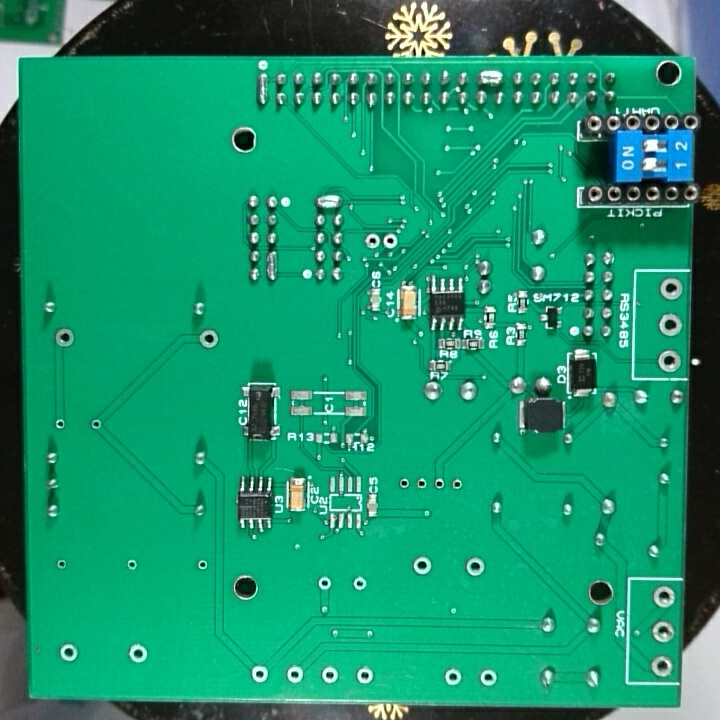F: (655, 347, 683, 374), (657, 312, 684, 340), (51, 326, 79, 352), (651, 583, 677, 611), (650, 619, 676, 646), (659, 277, 684, 304), (649, 654, 674, 680), (126, 641, 151, 666), (197, 327, 221, 352), (57, 641, 81, 666), (249, 662, 273, 685), (463, 556, 488, 578), (319, 664, 342, 686), (411, 555, 434, 577), (442, 666, 464, 689), (285, 662, 306, 686), (477, 666, 499, 688), (354, 665, 377, 686), (382, 229, 399, 253), (362, 230, 380, 252), (449, 474, 467, 495), (430, 473, 447, 495), (123, 556, 141, 575), (316, 574, 334, 593), (351, 574, 369, 593), (54, 555, 70, 574), (414, 475, 431, 492), (194, 556, 210, 574), (397, 474, 412, 492), (88, 416, 104, 432), (53, 415, 68, 432)
P: (254, 72, 271, 108), (476, 66, 505, 86), (263, 249, 280, 282), (314, 192, 342, 209)
